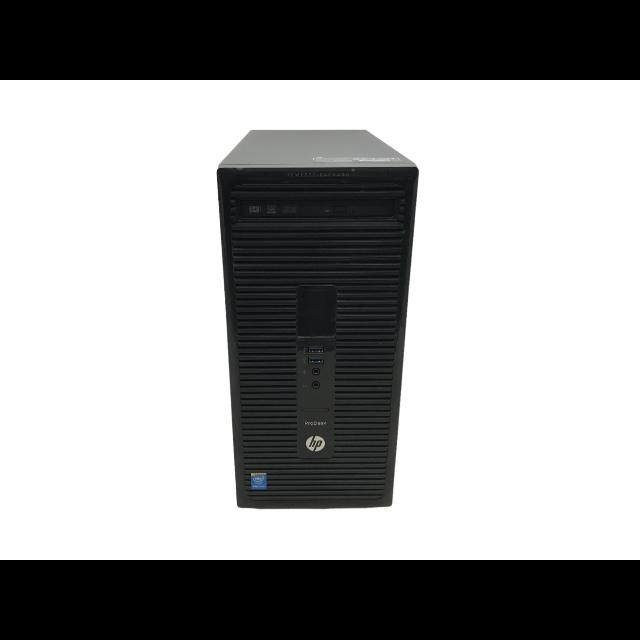Desktop-PC: (212, 123, 422, 513)
